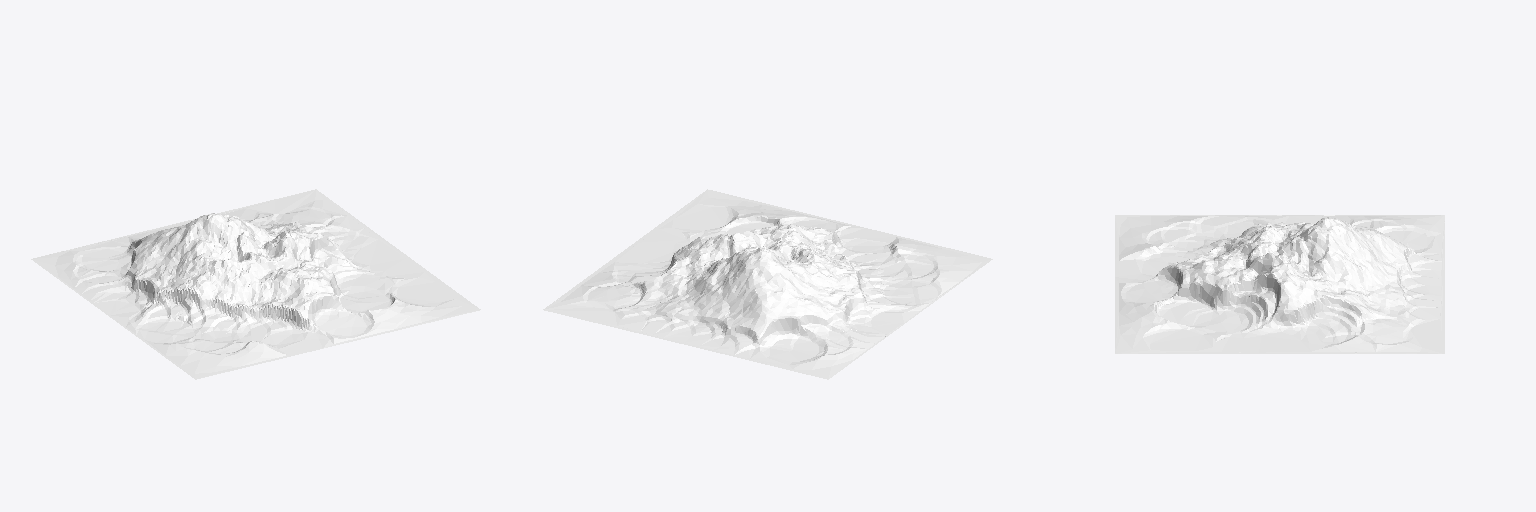
File: IslandMain.obj
3 renders of one model, left to right at view 1: azimuth 30°, elevation 25°; view 2: azimuth 150°, elevation 25°; view 3: azimuth 270°, elevation 25°, orthographic.
Parts seen in each view (by area): view 1: island_sec1; view 2: island_sec1; view 3: island_sec1.
Boxes of the visible parts, x1=… form: island_sec1: x1=31, y1=189, x2=480, y2=379; island_sec1: x1=543, y1=189, x2=992, y2=379; island_sec1: x1=1115, y1=215, x2=1444, y2=353.
Bounding box in the file's own units: 264 × 50.36 × 264.